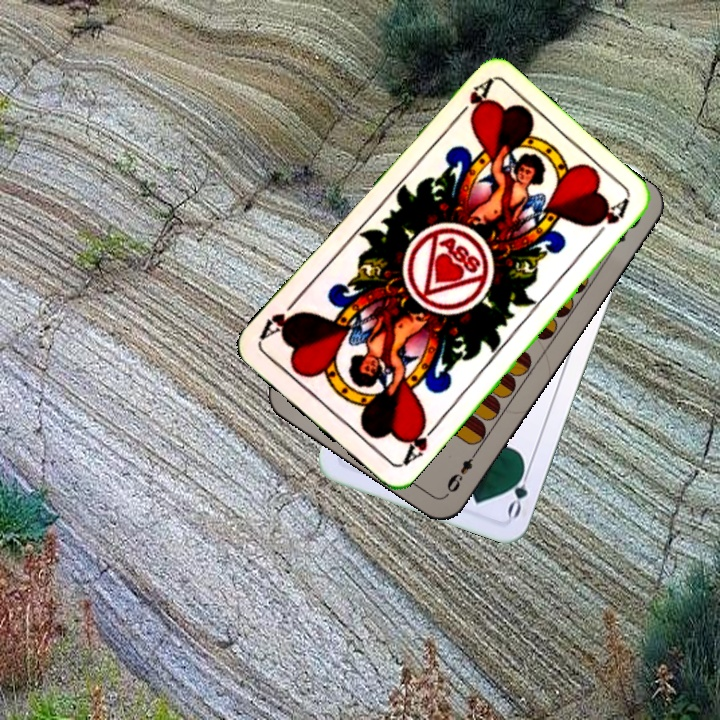E9: (442, 446, 481, 498)
GO: (503, 460, 534, 520)
HA: (397, 415, 441, 469), (448, 76, 494, 126)
